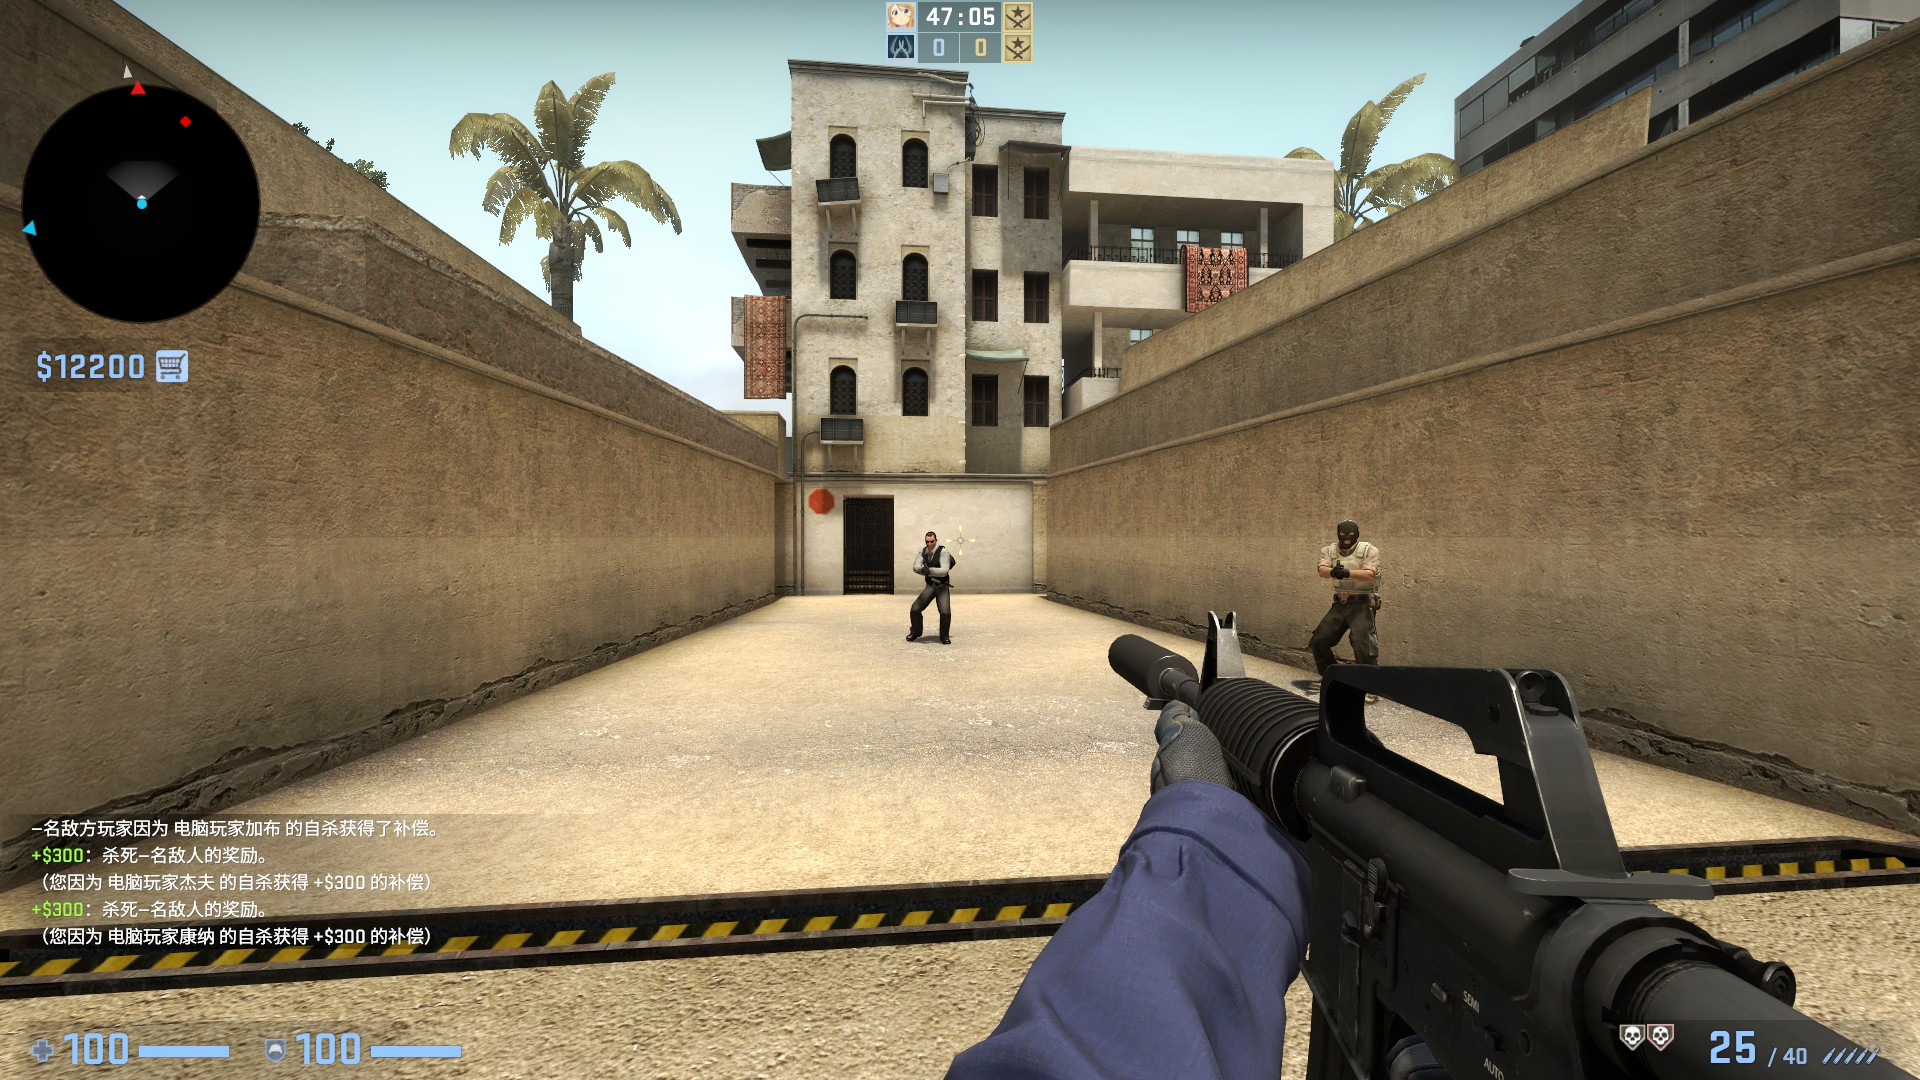head: (1335, 519, 1358, 549), (922, 530, 934, 548)
